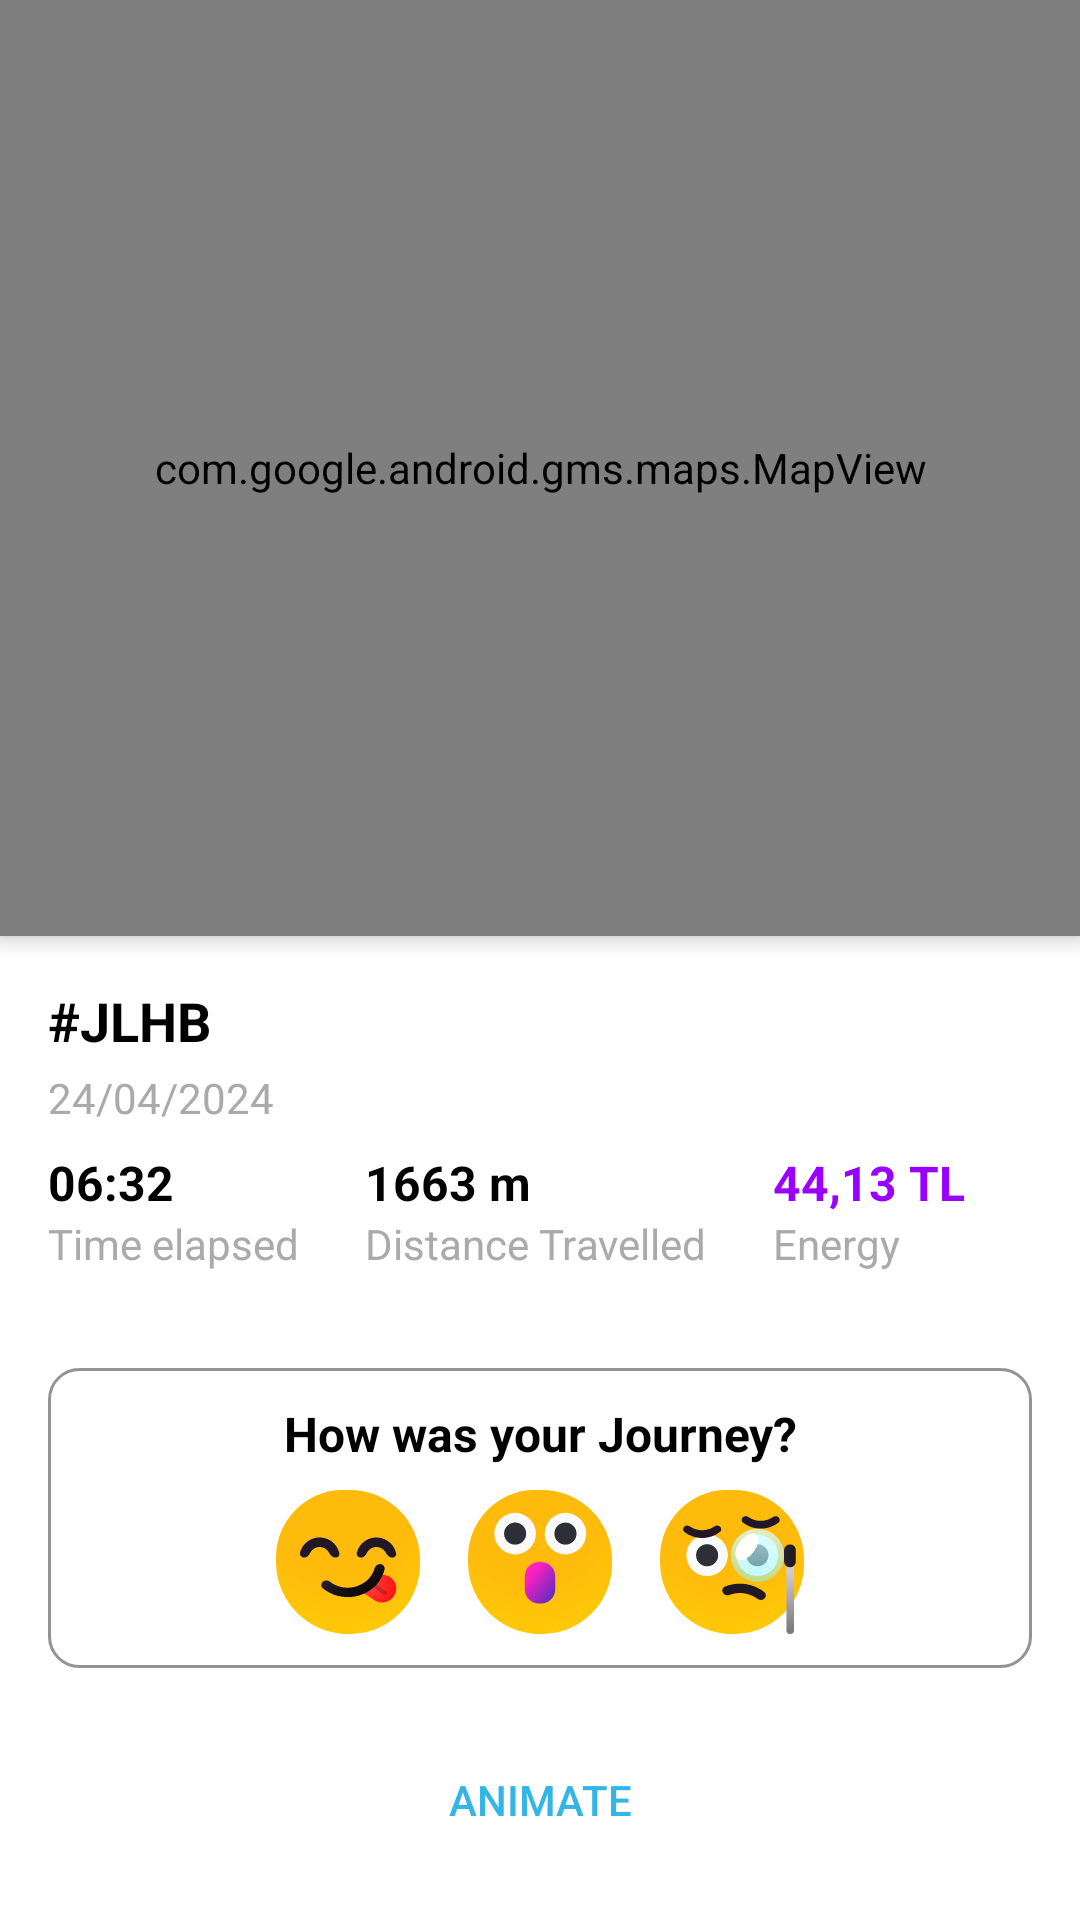

Screen size 1080 × 1920. Icon name, then its box in pixels as [x1, y1, x2, y2]:
happy: [276, 1490, 420, 1634]
unhappy: [660, 1490, 804, 1634]
